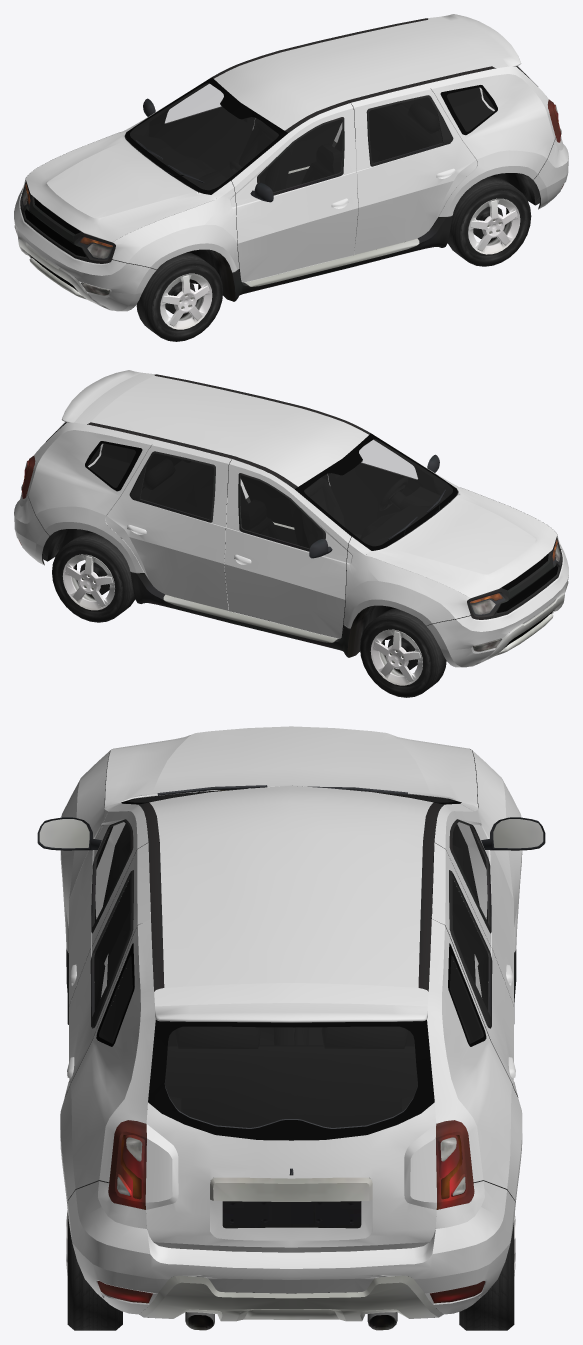
Rendered from car-suv10.glb.
The picture shows the model from 3 angles, top to bottom: view 1: azimuth 30°, elevation 25°; view 2: azimuth 150°, elevation 25°; view 3: azimuth 270°, elevation 25°; orthographic projection. The views are drawn at different scales.
Parts seen in each view (by area): view 1: body_dust_body_0, glass_dust_glass_0, interior_dust_void_0, bottom_dust_bottom_0, wheels_WX220_tier_1t_0, wheels_dust_bottom_0, glass_rim_dust_glass_rim_0, Object001_dust_bottom_0, light_dust_headlights_0; view 2: body_dust_body_0, glass_dust_glass_0, interior_dust_void_0, bottom_dust_bottom_0, wheels_WX220_tier_1t_0, wheels_dust_bottom_0, glass_rim_dust_glass_rim_0, Object001_dust_bottom_0, light_dust_headlights_0; view 3: body_dust_body_0, glass_dust_glass_0, interior_dust_void_0, bottom_dust_bottom_0, glass_rim_dust_glass_rim_0, Object001_dust_bottom_0, light_dust_headlights_0, wheels_WX220_tier_1t_0.
Boxes of the visible parts, x1=… form: body_dust_body_0: x1=14, y1=14, x2=568, y2=311; glass_dust_glass_0: x1=130, y1=66, x2=524, y2=192; interior_dust_void_0: x1=130, y1=74, x2=495, y2=280; bottom_dust_bottom_0: x1=20, y1=18, x2=555, y2=313; wheels_WX220_tier_1t_0: x1=136, y1=177, x2=531, y2=341; wheels_dust_bottom_0: x1=160, y1=198, x2=520, y2=329; glass_rim_dust_glass_rim_0: x1=125, y1=66, x2=537, y2=194; Object001_dust_bottom_0: x1=18, y1=236, x2=112, y2=310; light_dust_headlights_0: x1=14, y1=99, x2=563, y2=295; body_dust_body_0: x1=14, y1=370, x2=568, y2=667; glass_dust_glass_0: x1=57, y1=422, x2=452, y2=548; interior_dust_void_0: x1=46, y1=435, x2=452, y2=636; bottom_dust_bottom_0: x1=27, y1=374, x2=562, y2=669; wheels_WX220_tier_1t_0: x1=52, y1=533, x2=446, y2=697; wheels_dust_bottom_0: x1=62, y1=554, x2=422, y2=685; glass_rim_dust_glass_rim_0: x1=46, y1=422, x2=457, y2=550; Object001_dust_bottom_0: x1=470, y1=592, x2=564, y2=666; light_dust_headlights_0: x1=19, y1=455, x2=568, y2=651; body_dust_body_0: x1=60, y1=726, x2=522, y2=1314; glass_dust_glass_0: x1=94, y1=790, x2=488, y2=1128; interior_dust_void_0: x1=65, y1=791, x2=518, y2=1140; bottom_dust_bottom_0: x1=37, y1=749, x2=545, y2=1330; glass_rim_dust_glass_rim_0: x1=96, y1=790, x2=486, y2=1140; Object001_dust_bottom_0: x1=139, y1=1275, x2=443, y2=1321; light_dust_headlights_0: x1=97, y1=1120, x2=485, y2=1303; wheels_WX220_tier_1t_0: x1=67, y1=997, x2=514, y2=1330.
Bounding box in the file's own units: 169 × 59.85 × 74.94.
7 materials, 3 textured.
